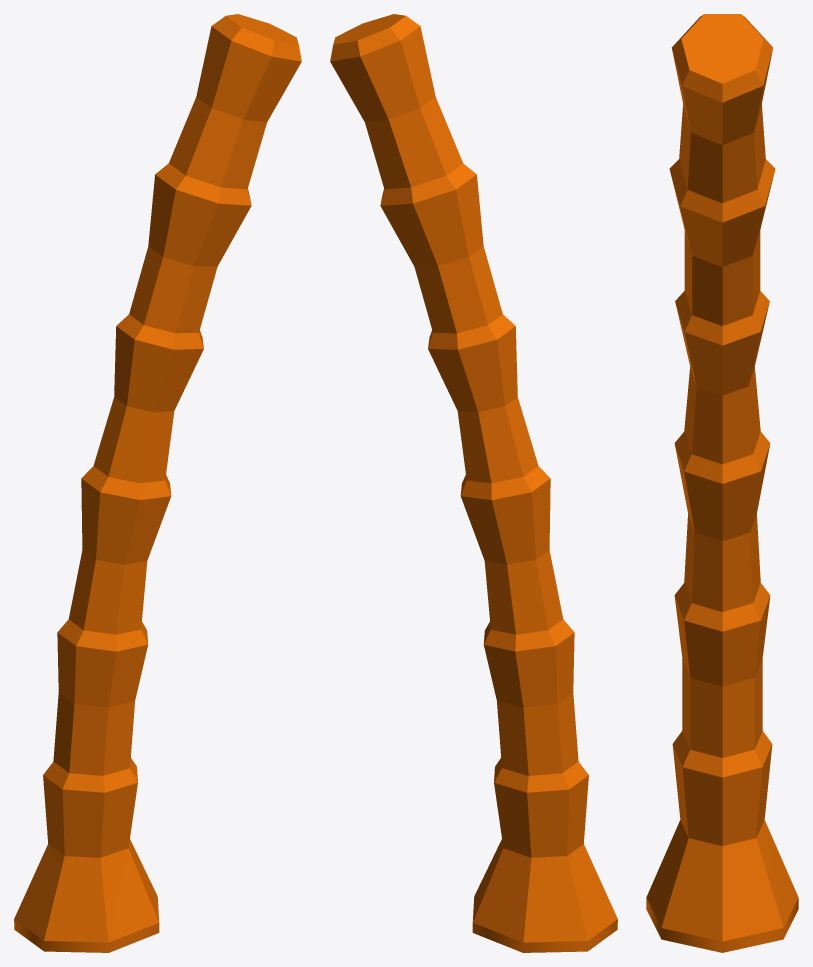
Rendered from palm_trunk_01.fbx.
The picture shows the model from 3 angles, left to right: view 1: azimuth 30°, elevation 25°; view 2: azimuth 150°, elevation 25°; view 3: azimuth 270°, elevation 25°; orthographic projection. The views are drawn at different scales.
Parts seen in each view (by area): view 1: Cylinder001; view 2: Cylinder001; view 3: Cylinder001.
Boxes of the visible parts, bbox=[...] form: Cylinder001: bbox=[14, 14, 301, 952]; Cylinder001: bbox=[330, 14, 617, 952]; Cylinder001: bbox=[646, 14, 798, 952].
Bounding box in the file's own units: 48.96 × 150 × 21.09.
